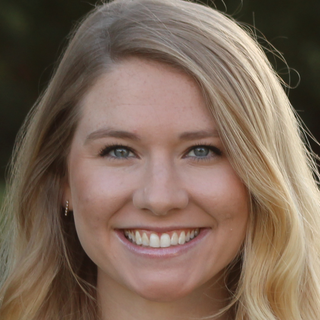eye: (96, 142, 144, 163), (179, 142, 224, 164)
